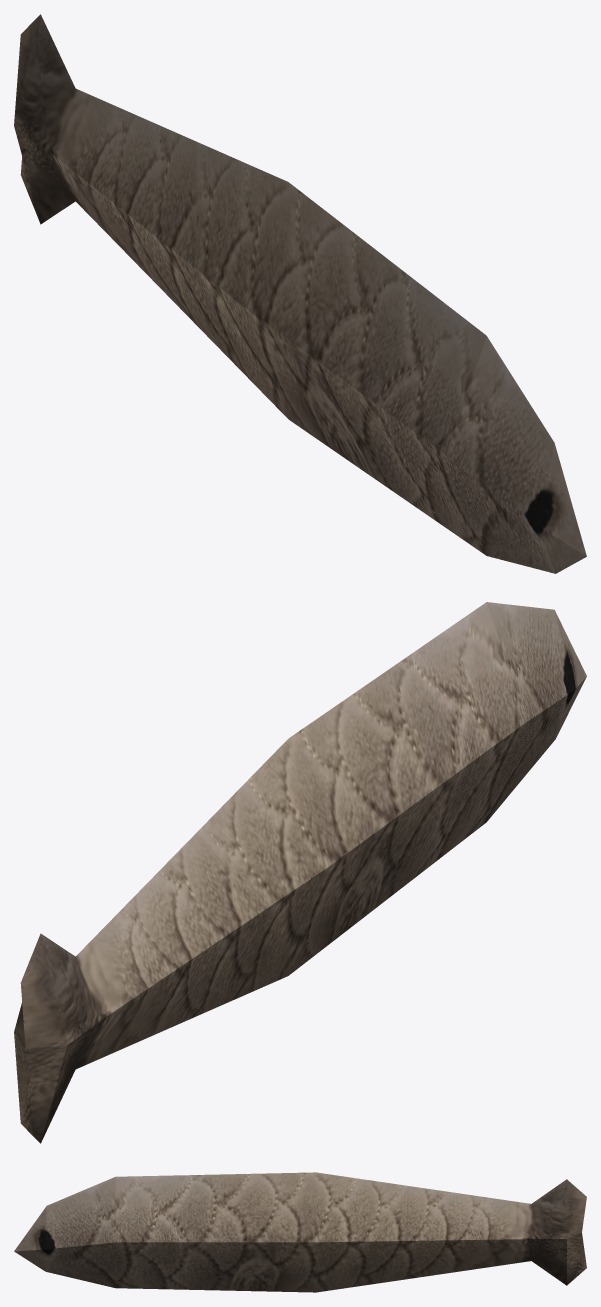
The model's file is terry.fbx.
The picture shows the model from 3 angles, top to bottom: view 1: azimuth 30°, elevation 25°; view 2: azimuth 150°, elevation 25°; view 3: azimuth 270°, elevation 25°; orthographic projection. The views are drawn at different scales.
Parts seen in each view (by area): view 1: pCube1; view 2: pCube1; view 3: pCube1.
Part boxes in pixels (bbox=[...]): pCube1: bbox=[14, 14, 586, 573]; pCube1: bbox=[14, 602, 586, 1143]; pCube1: bbox=[14, 1172, 586, 1292].
Size of the model in its own units: 0.3807 by 1.08 by 4.66.
